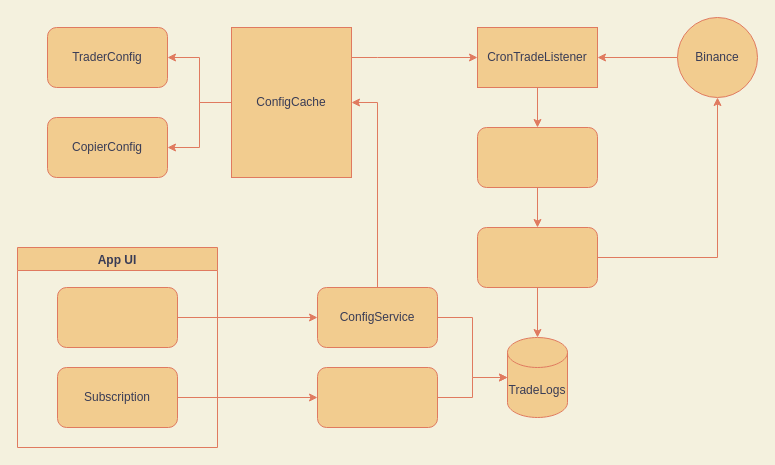
The diagram is 775 pixels wide and 465 high, and some of its shapes have lost their labels. Each missing label, with the centre of its shape:
"ConfigManager" goes at [117,317].
"CopierService" goes at [537,257].
"KafkaChannel" goes at [537,157].
"SubService" goes at [377,397].
